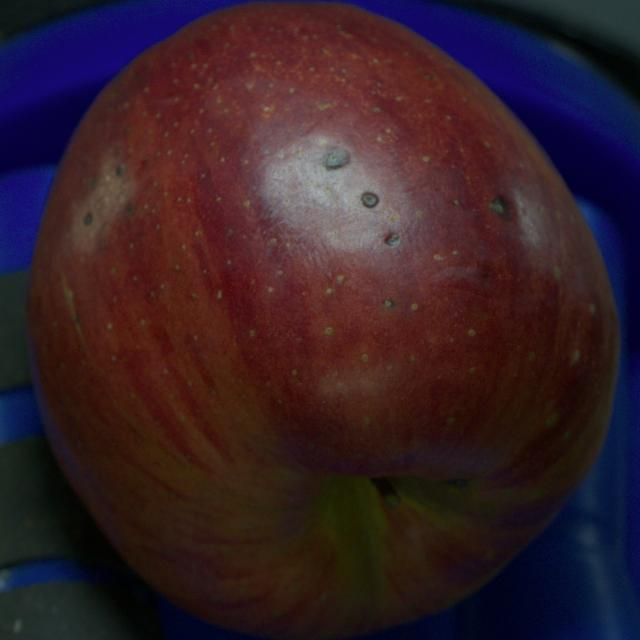apple: (28, 2, 619, 639)
pest: (324, 148, 349, 169), (490, 196, 512, 219), (361, 192, 379, 208), (385, 233, 399, 246), (84, 213, 92, 224)
